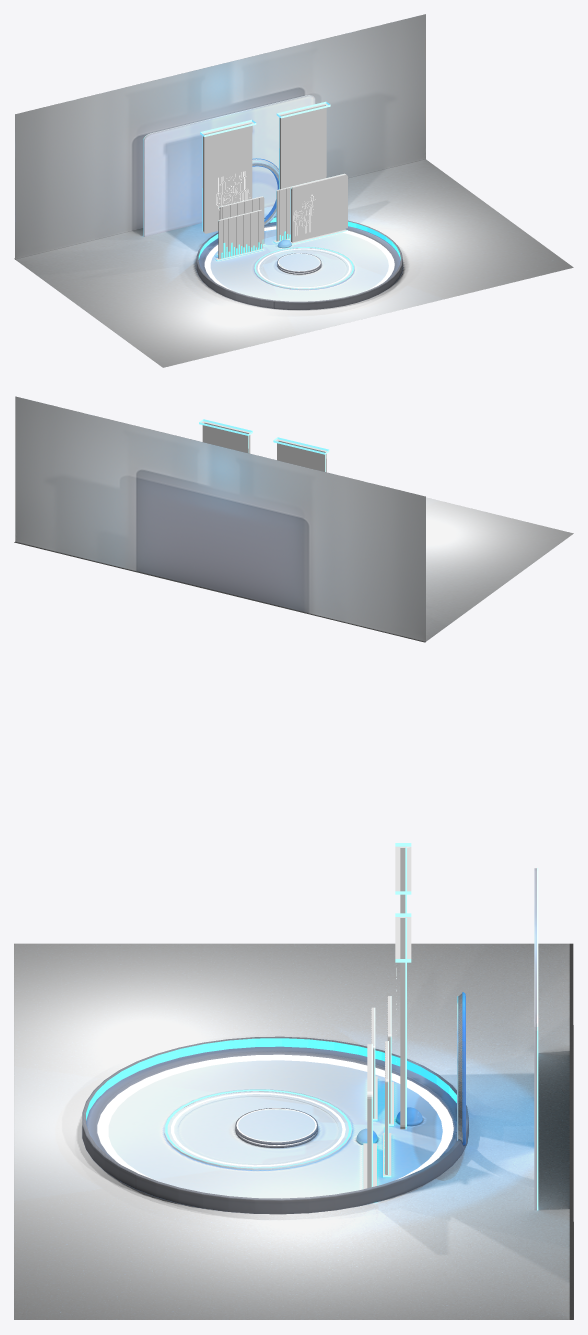
The model's file is zhantai.glb.
3 renders of one model, top to bottom at view 1: azimuth 30°, elevation 25°; view 2: azimuth 150°, elevation 25°; view 3: azimuth 270°, elevation 25°, orthographic. The views are drawn at different scales.
Visible parts, largest first — view 1: xuanran, floor_di, boli, buhongpei, Obj3d66-19422619-16-83; view 2: xuanran, floor_di, boli, buhongpei; view 3: floor_di, xuanran, buhongpei, boli.
Part boxes in pixels (x1,y1,x2,y2): xuanran: (15, 14, 425, 309); floor_di: (14, 159, 573, 367); boli: (202, 103, 347, 259); buhongpei: (143, 95, 400, 291); Obj3d66-19422619-16-83: (216, 171, 315, 235); xuanran: (15, 396, 425, 641); floor_di: (14, 497, 573, 642); boli: (201, 421, 326, 472); buhongpei: (199, 419, 329, 471); floor_di: (14, 943, 573, 1319); xuanran: (82, 868, 536, 1214); buhongpei: (86, 843, 538, 1210); boli: (363, 846, 411, 1189).
Size of the model in its own units: 18.72 by 6.63 by 11.78.
18 materials, 10 textured.
